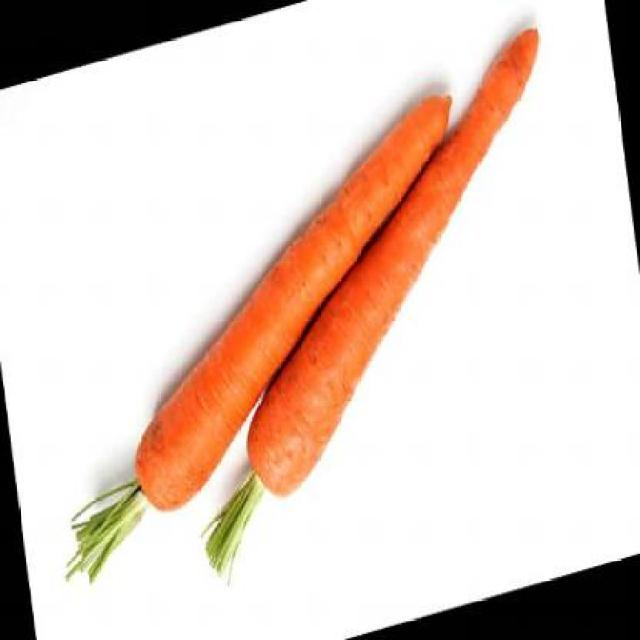carrot: (202, 26, 587, 506), (97, 87, 492, 519)
